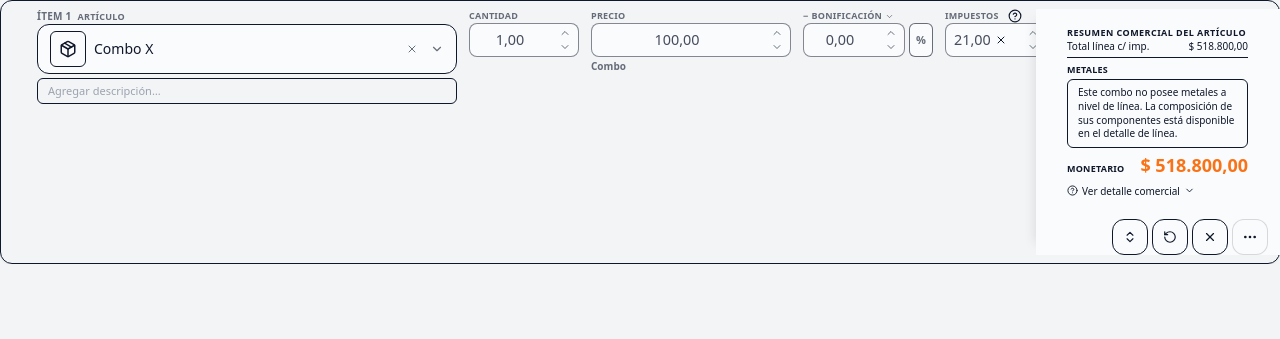
it: COMBO con redondeo comercial — detalle comercial monetario al desplegar › DESGLOSADO: 'Ver detalle' despliega Valor comercial + Redondeo comercial + Valor redondeado
Click the button "Ver detalle comercial". click: [1131, 191]
box: [1067, 184, 1195, 197]
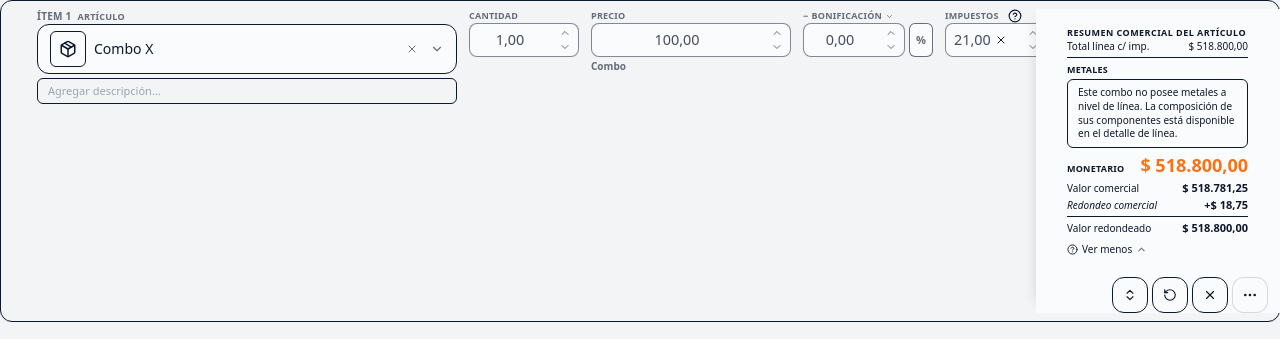
Now the element showing "Valor comercial $ 518.781,25" is shown, box [1067, 180, 1248, 194]
Now the element showing "Redondeo comercial +$ 18,75" is shown, box [1067, 198, 1248, 212]
Now the element showing "Valor redondeado $ 518.800,00" is shown, box [1067, 216, 1248, 235]
